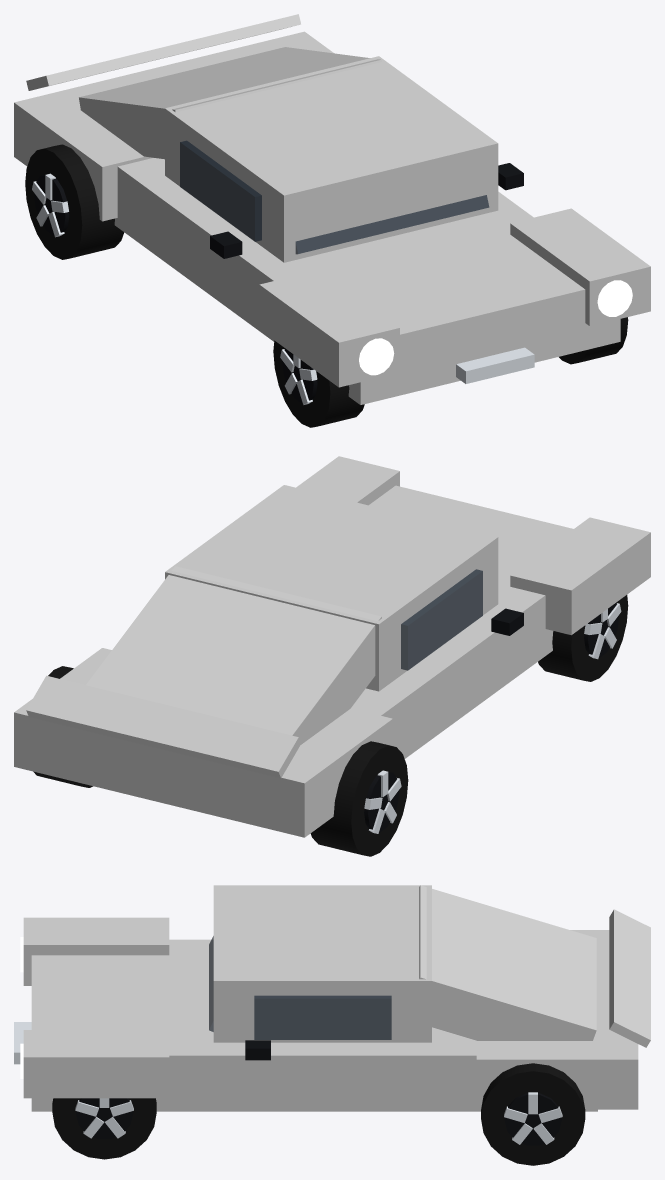
File: porch-deathstalker.glb
3 views of the same model, one above another, from view 1: azimuth 30°, elevation 25°; view 2: azimuth 150°, elevation 25°; view 3: azimuth 270°, elevation 25° (orthographic). The views are drawn at different scales.
Visible parts, largest first — view 1: chassis, wheel-back-left, wheel-front-left, glass, wheel-front-right; view 2: chassis, wheel-back-left, wheel-front-left; view 3: chassis, wheel-back-right, wheel-front-right, glass.
Part boxes in pixels (bbox=[...]): chassis: bbox=[14, 14, 650, 404]; wheel-back-left: bbox=[25, 144, 124, 259]; wheel-front-left: bbox=[273, 340, 364, 427]; glass: bbox=[295, 195, 488, 254]; wheel-front-right: bbox=[559, 317, 628, 364]; chassis: bbox=[14, 456, 650, 837]; wheel-back-left: bbox=[310, 741, 408, 856]; wheel-front-left: bbox=[538, 595, 628, 681]; chassis: bbox=[14, 885, 650, 1111]; wheel-back-right: bbox=[481, 1063, 585, 1165]; wheel-front-right: bbox=[52, 1098, 156, 1159]; glass: bbox=[209, 936, 213, 1031].
Size of the model in its own units: 2.21 by 1.1 by 3.94.
